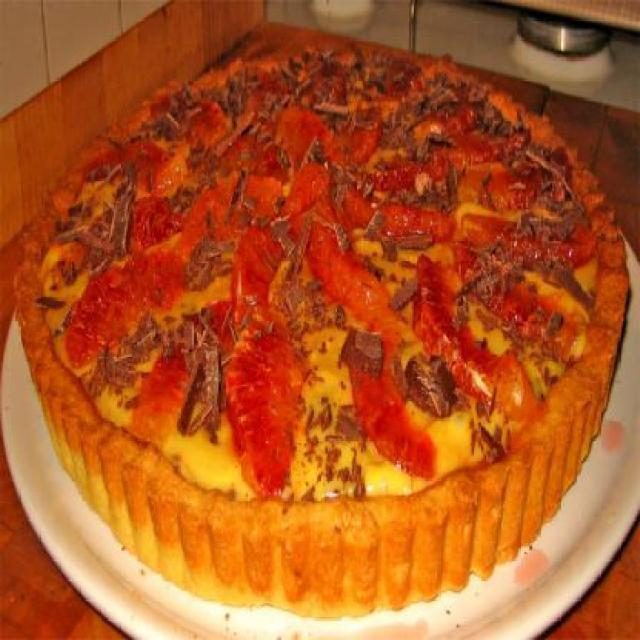Pizza: (10, 36, 638, 622)
